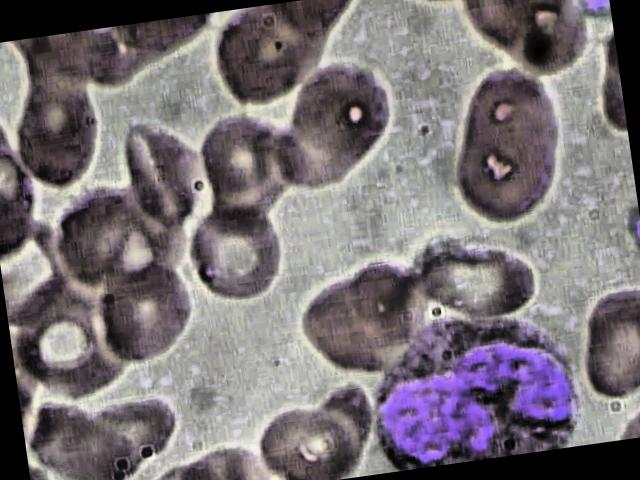RBC: (444, 109, 580, 228), (276, 54, 412, 172), (443, 49, 579, 167), (289, 269, 409, 384), (416, 230, 548, 331), (182, 198, 292, 316), (90, 255, 200, 372), (4, 77, 114, 194), (183, 106, 297, 210), (22, 387, 145, 480), (250, 393, 364, 480), (569, 284, 640, 408)
WBC: (356, 300, 589, 474)
